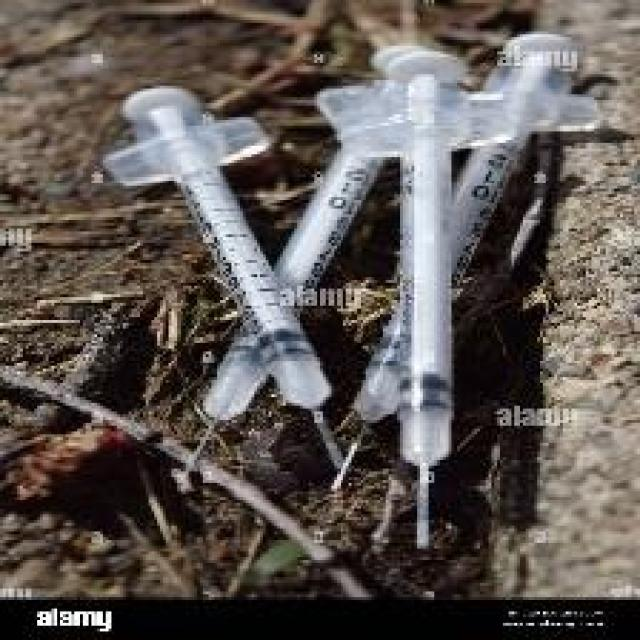syringe: (127, 38, 536, 532)
